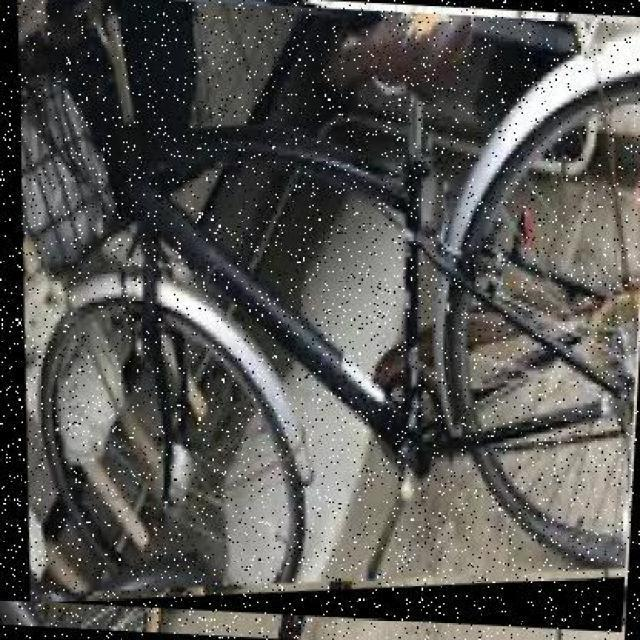bicycle: (1, 1, 639, 635)
